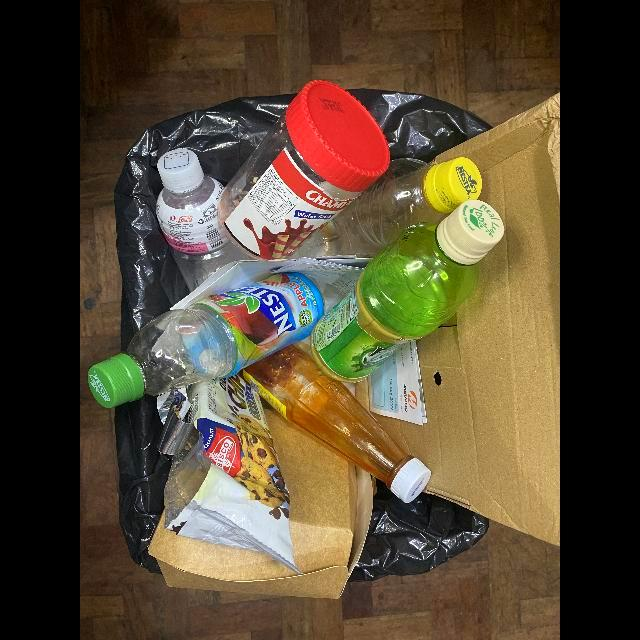cardboard: (375, 91, 560, 549), (149, 409, 376, 600)
food_wrapper: (158, 371, 302, 575)
glass_bottle: (243, 345, 432, 504)
paper: (170, 257, 364, 310), (367, 340, 427, 426)
plastic_bottle: (310, 200, 506, 384), (87, 272, 324, 409), (297, 158, 483, 259), (155, 149, 243, 290)
plastic_container: (217, 80, 391, 262)
